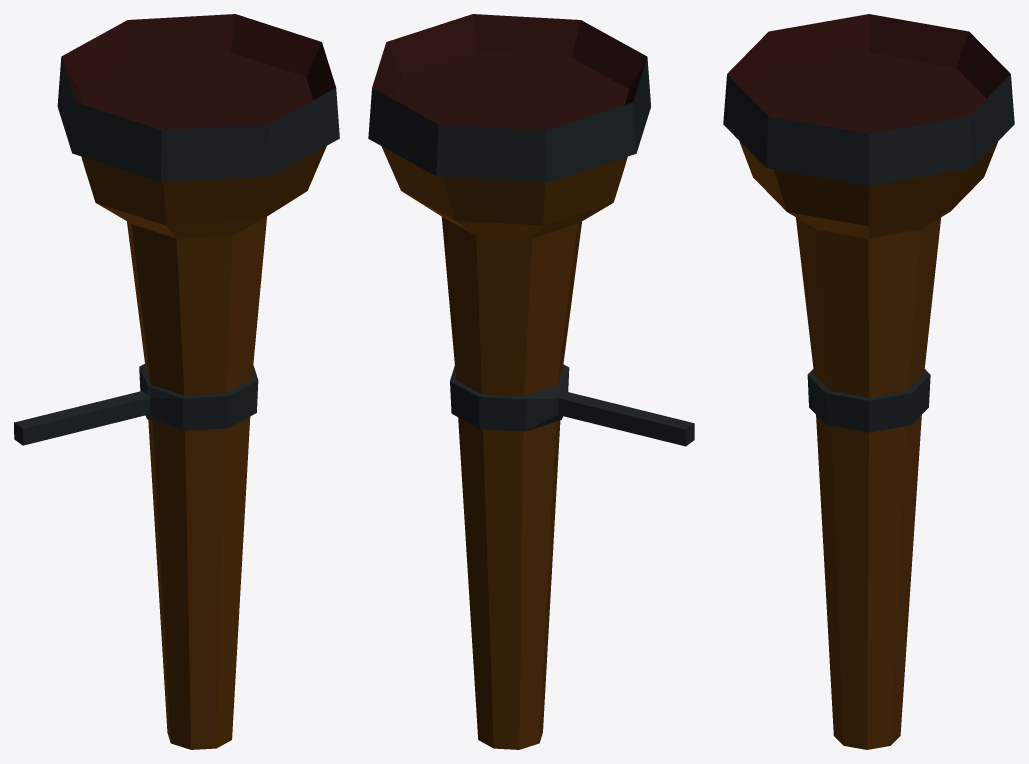
File: torch.glb
3 renders of one model, left to right at view 1: azimuth 30°, elevation 25°; view 2: azimuth 150°, elevation 25°; view 3: azimuth 270°, elevation 25°, orthographic.
Parts seen in each view (by area): view 1: TorchGeometry; view 2: TorchGeometry; view 3: TorchGeometry.
Boxes of the visible parts, left/top/right/bottom form: TorchGeometry: left=14, top=14, right=339, bottom=749; TorchGeometry: left=368, top=14, right=694, bottom=749; TorchGeometry: left=723, top=14, right=1014, bottom=749.
Bounding box in the file's own units: 0.5871 × 1.21 × 0.4845.
1 material, 1 textured.
